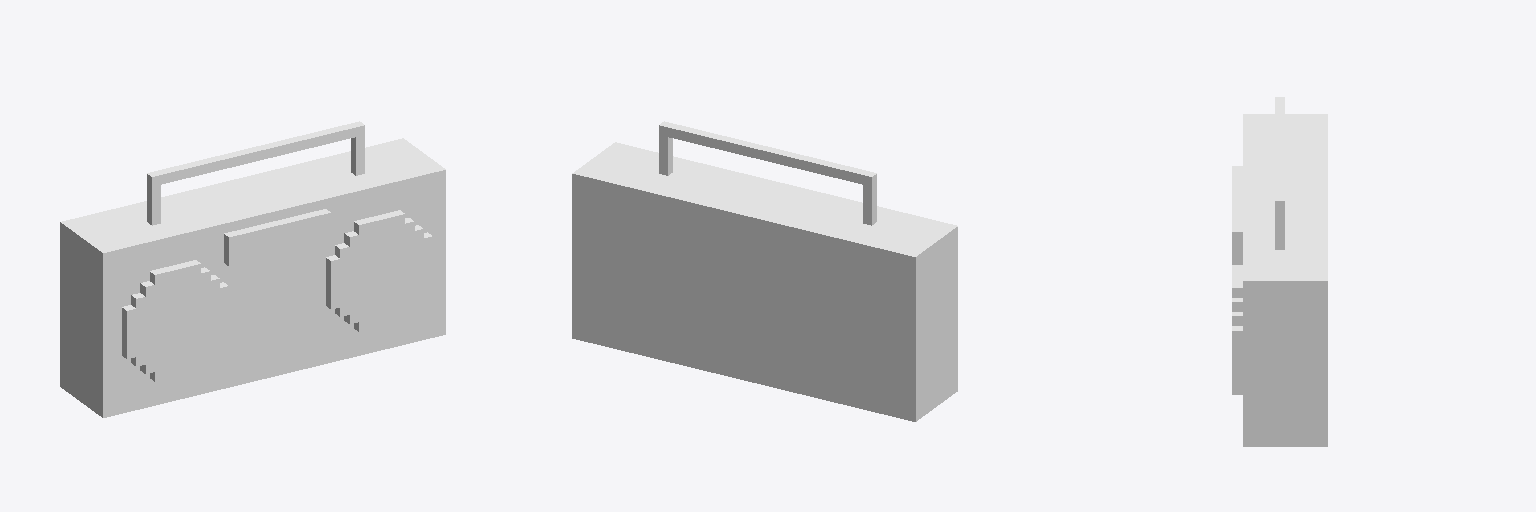
The model's file is Stereo.obj.
3 renders of one model, left to right at view 1: azimuth 30°, elevation 25°; view 2: azimuth 150°, elevation 25°; view 3: azimuth 270°, elevation 25°, orthographic.
Bounding box in the file's own units: 37 × 22 × 9.